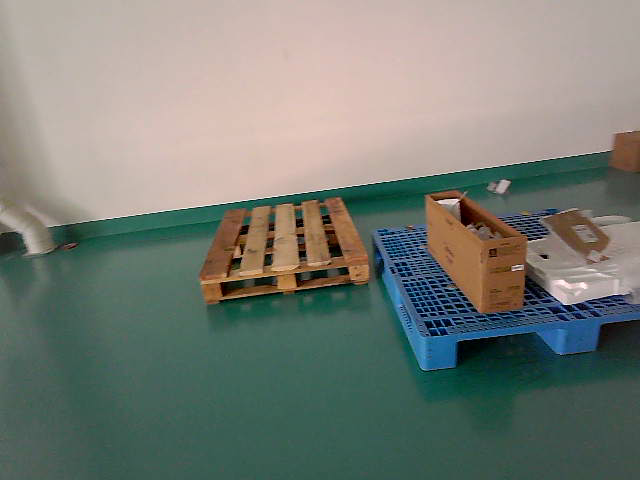block: (407, 321, 455, 373), (564, 318, 600, 354)
front: (425, 313, 636, 371)
hole pallet: (456, 329, 569, 366), (601, 323, 639, 350)
